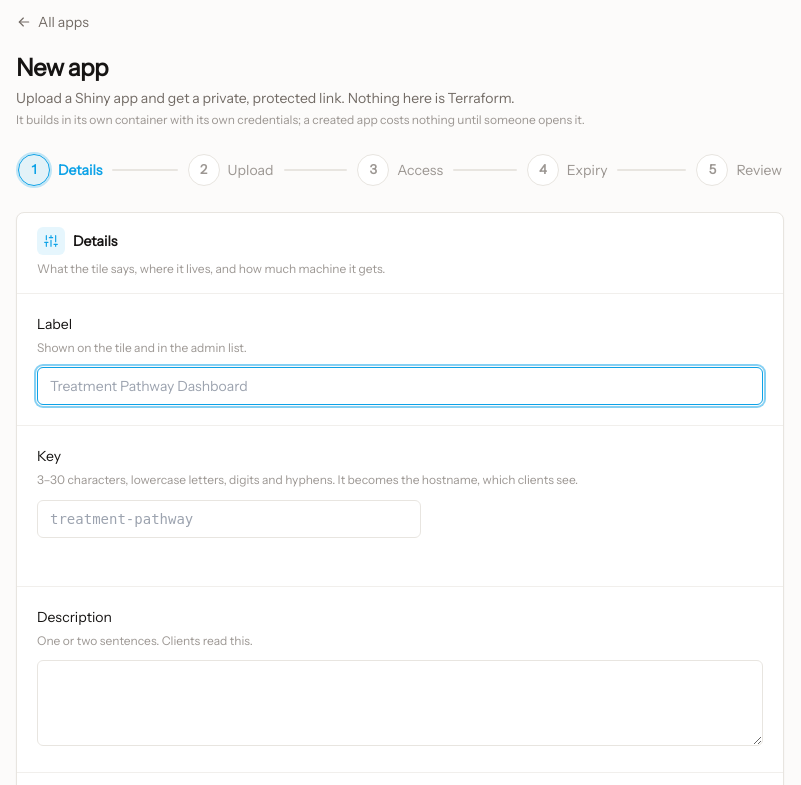
Scenario: NewAppWizard — key availability › shows the address the key will produce, suffix and all, from the first keystroke
In the field named "Key": (229, 518) [37, 500, 421, 538], type "access-atlas"
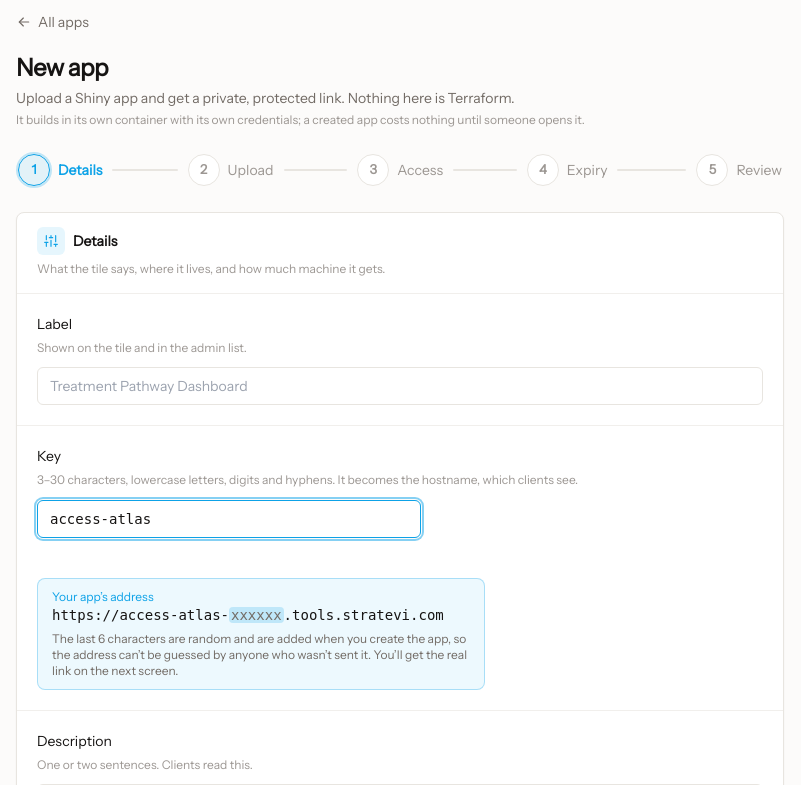
expect the text "Your app’s address" is shown: met, box [52, 588, 154, 604]
